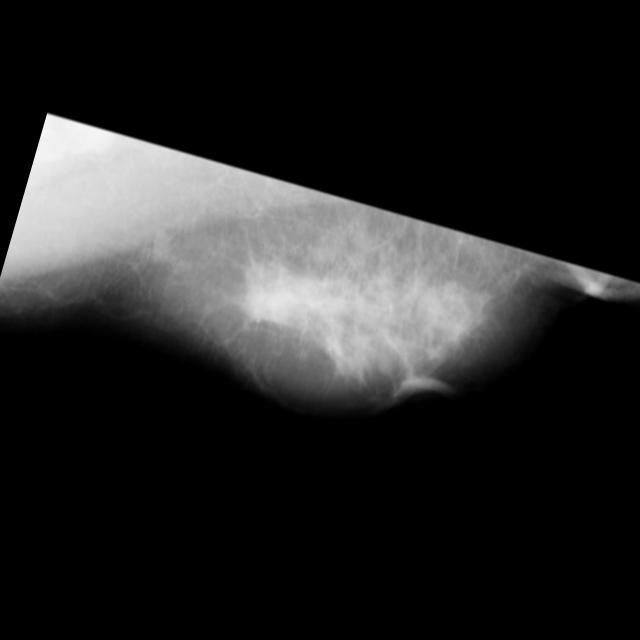SPIC: (216, 239, 325, 347)
